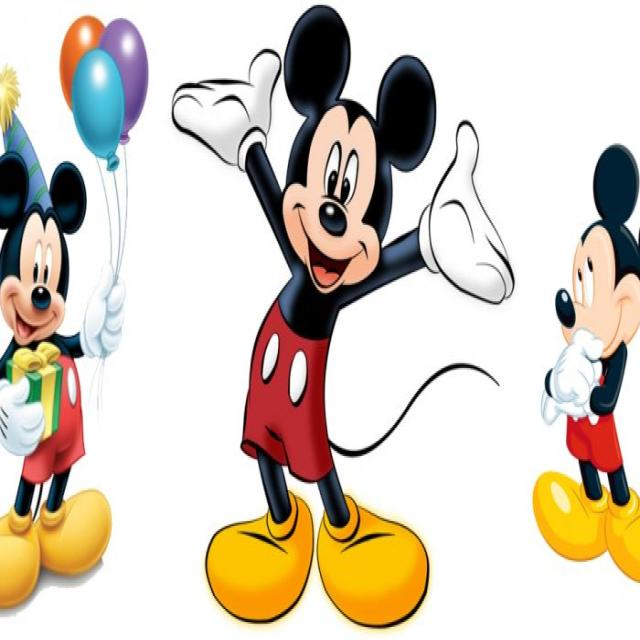mickey: (170, 0, 515, 629), (0, 149, 126, 611), (532, 135, 640, 599)
